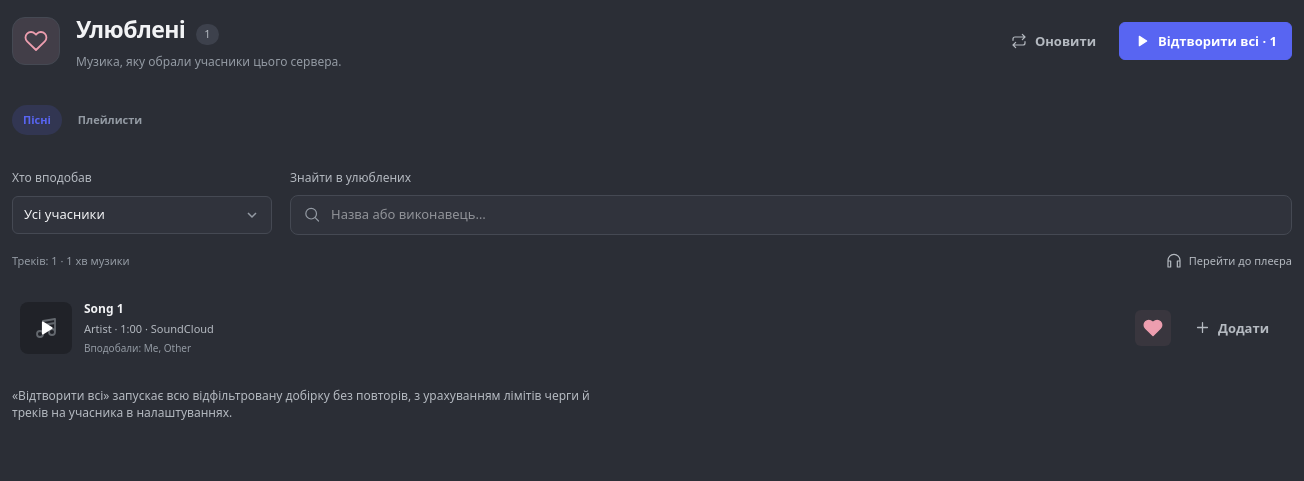
Test: favorites collection and hearts › hides YouTube favorites in production and keeps an own heart on a failed save
The width and height of the screenshot is (1304, 481).
Click the button named "Зняти сердечко: Song 1" at coordinates (1153, 328), box [1135,310,1171,346]
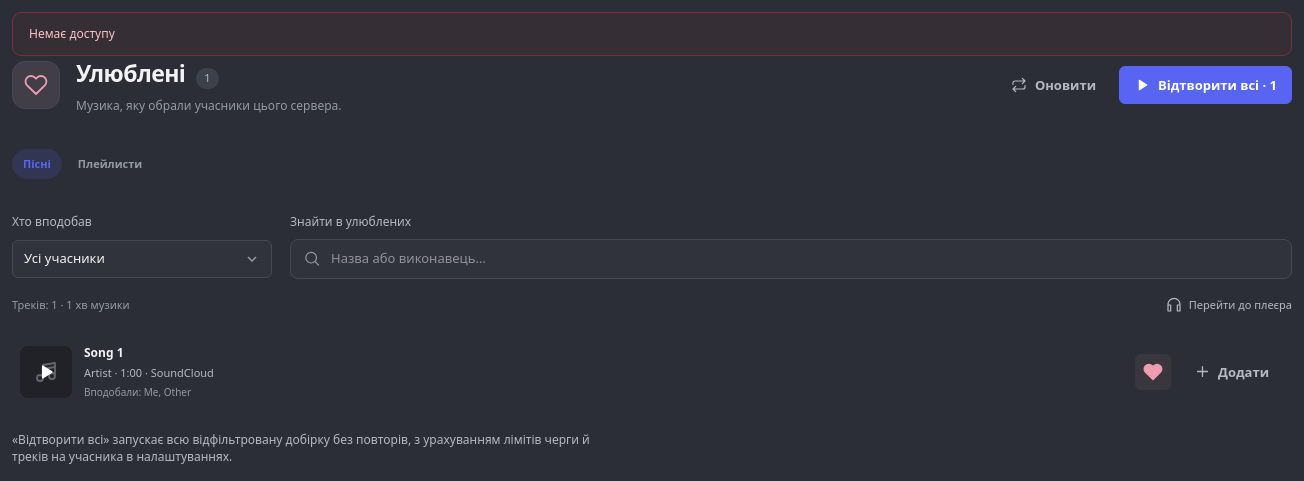
Result: the message "Немає доступу" is shown at [12,12,1292,56]
